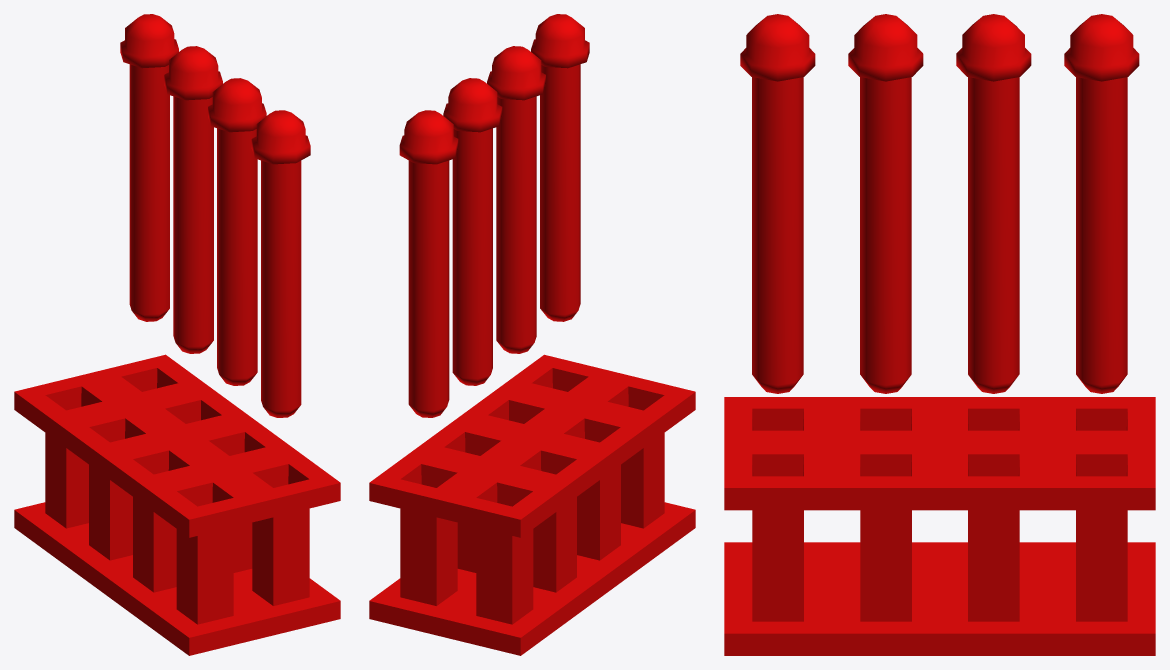
The model's file is LabTubeRack.fbx.
The picture shows the model from 3 angles, left to right: view 1: azimuth 30°, elevation 25°; view 2: azimuth 150°, elevation 25°; view 3: azimuth 270°, elevation 25°; orthographic projection. The views are drawn at different scales.
Parts seen in each view (by area): view 1: LabTubeRack, LabTubeD, LabTubeA, LabTubeC, LabTubeB; view 2: LabTubeRack, LabTubeA, LabTubeB, LabTubeD, LabTubeC; view 3: LabTubeRack, LabTubeD, LabTubeA, LabTubeC, LabTubeB.
Part boxes in pixels (x1,y1,x2,y2): LabTubeRack: (14, 354, 340, 655); LabTubeD: (251, 110, 310, 417); LabTubeA: (120, 14, 178, 321); LabTubeC: (208, 78, 266, 385); LabTubeB: (164, 46, 222, 353); LabTubeRack: (369, 354, 695, 655); LabTubeA: (399, 110, 458, 417); LabTubeB: (443, 78, 502, 385); LabTubeD: (531, 14, 589, 321); LabTubeC: (487, 46, 545, 353); LabTubeRack: (724, 397, 1155, 655); LabTubeD: (740, 14, 815, 393); LabTubeA: (1064, 14, 1139, 393); LabTubeC: (848, 14, 923, 393); LabTubeB: (956, 14, 1031, 393).
Size of the model in its own units: 14.19 by 44.47 by 28.38.
